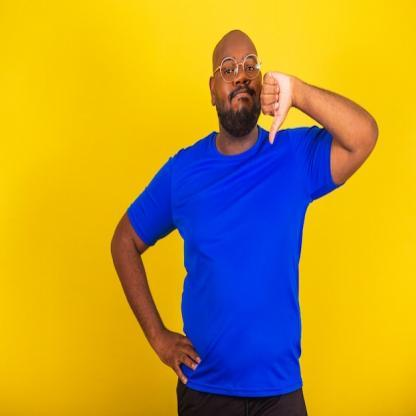thumb_down: (260, 67, 294, 148)
